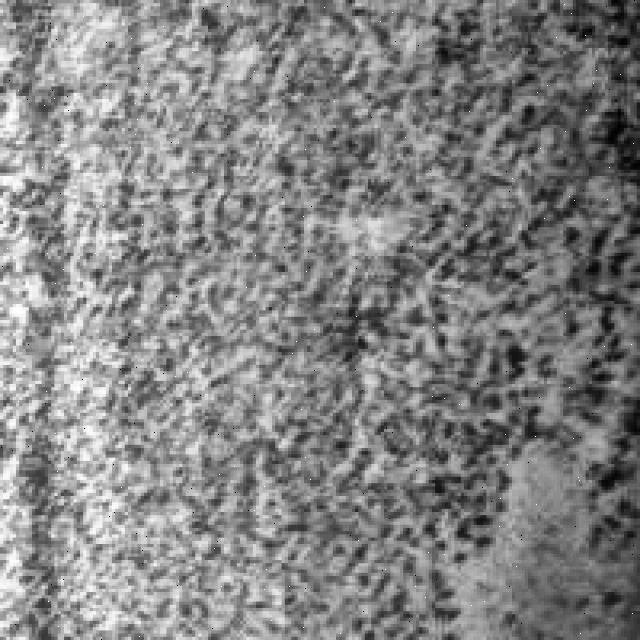Rolled_in_Scale: (144, 0, 637, 637)
